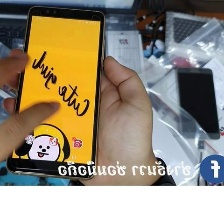phone: (3, 2, 108, 182), (172, 64, 223, 143)
